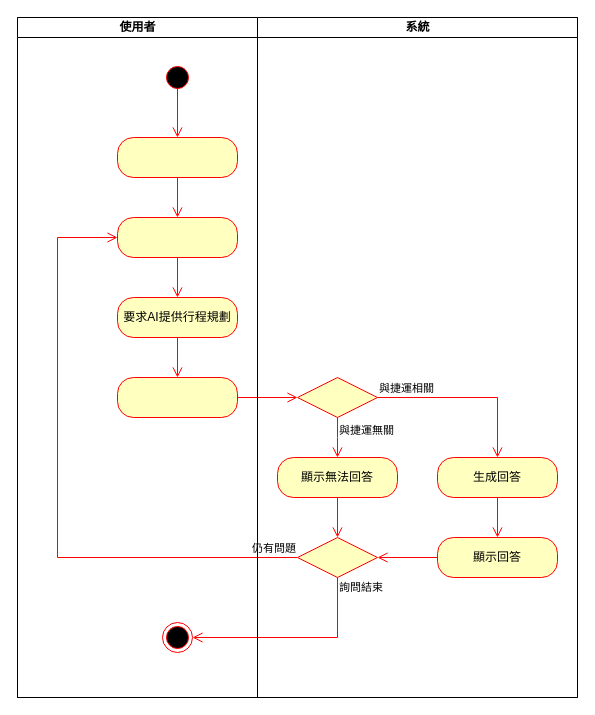
Some shapes in this 595 by 715 pixel diagram are drawn without their labels. Here are the shapes that lost their labels. From the top down, the centre of each, then its label:
At (x=177, y=157): "AI對話 介面".
At (x=177, y=237): "輸入想去的地方".
At (x=177, y=397): "送出要求".
